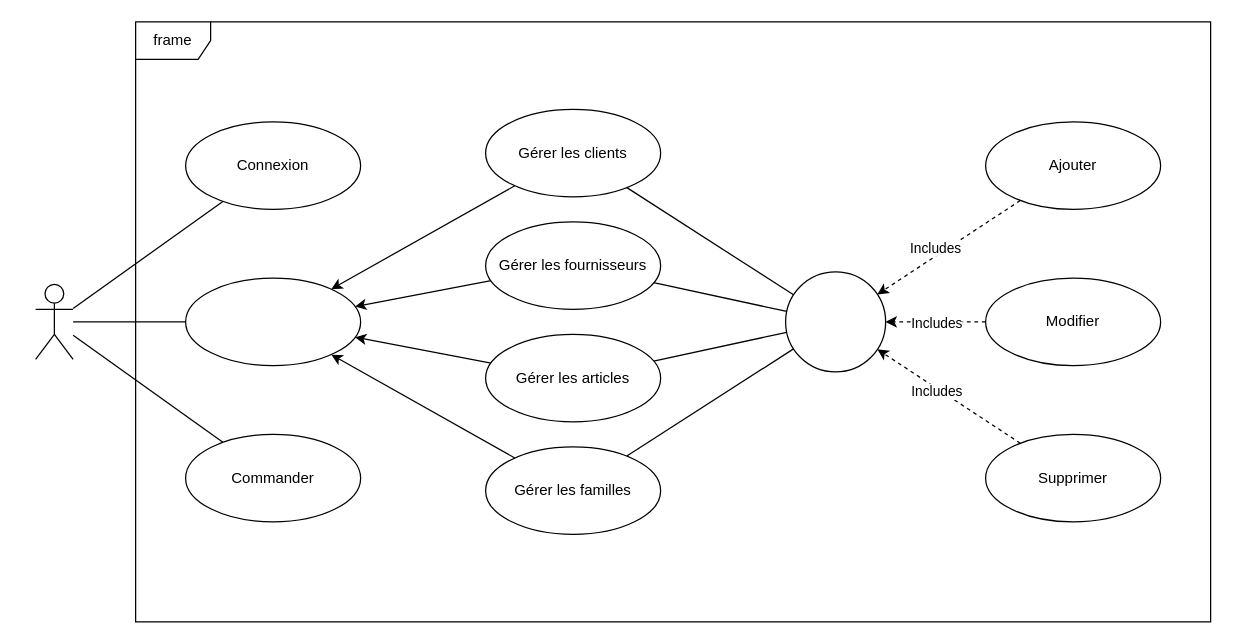
The diagram is 1233 pixels wide and 644 high, and some of its shapes have lost their labels. The shapes that lost their labels are listed below. From the top down, each one's box as (x1, y1, x2, y2) in pixels, then its label:
(34, 283, 73, 359): Utilisateur
(184, 277, 361, 366): Gérer
(784, 271, 886, 372): Editer
